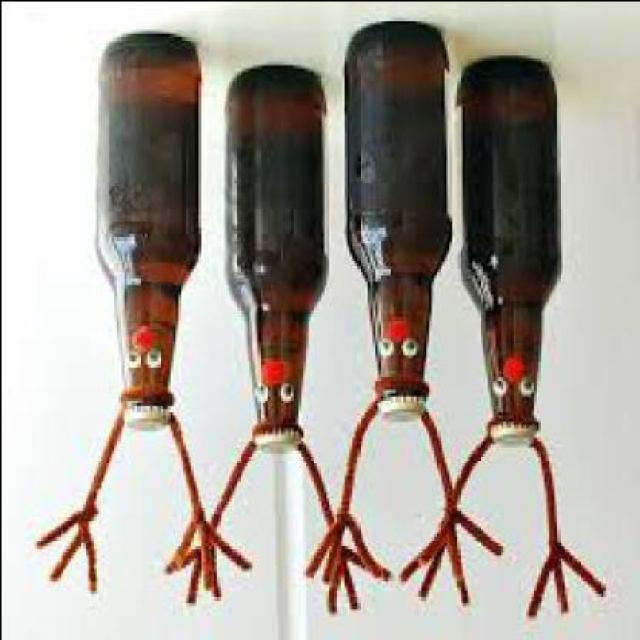GLASS: (343, 22, 454, 395), (456, 55, 561, 427), (225, 67, 328, 433), (102, 35, 202, 408)
METAL: (126, 404, 172, 436), (494, 427, 538, 451), (253, 433, 305, 452), (384, 402, 424, 423)
